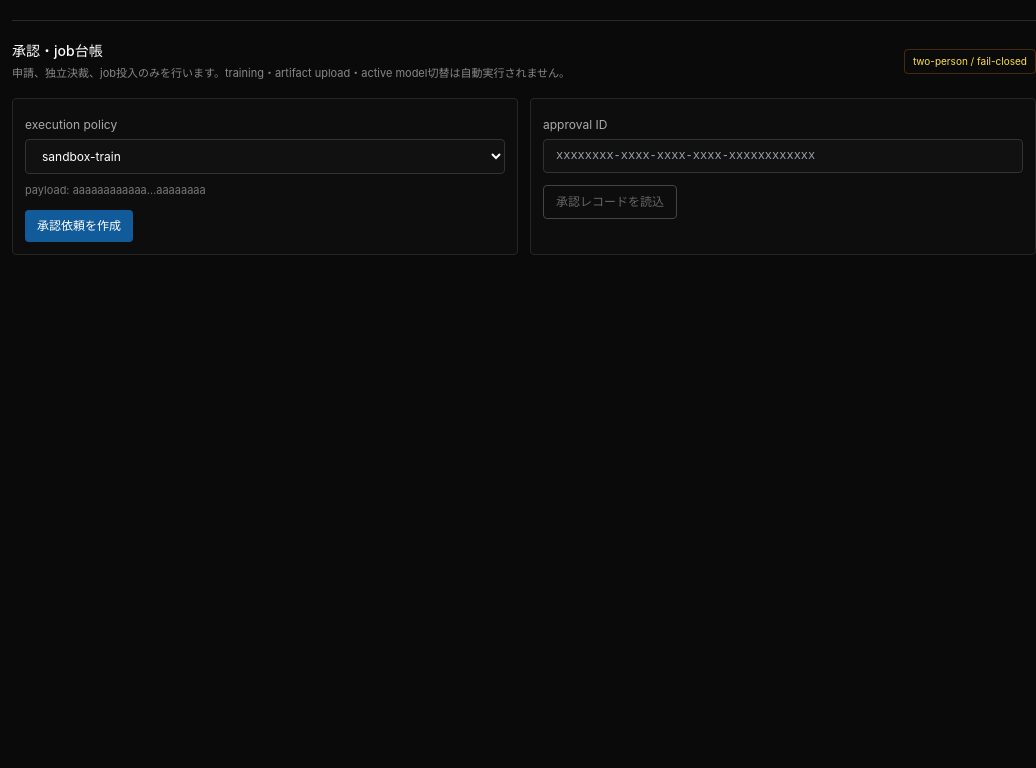
Test case: model retrain approval panel › loads an approved record and queues without claiming execution
The width and height of the screenshot is (1036, 768).
In the field labelled "approval ID": (783, 156) [543,138,1023,172], type "44444444-4444-4444-8444-444444444444"
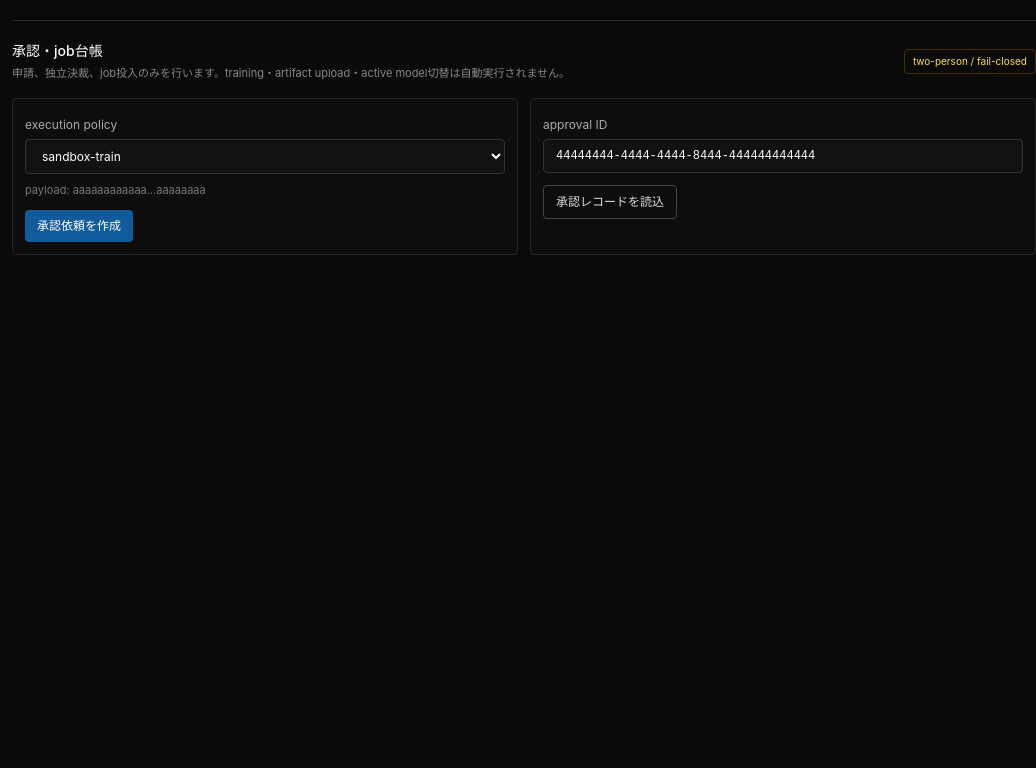
Click the button "承認レコードを読込": click(610, 202) [543,184,677,218]
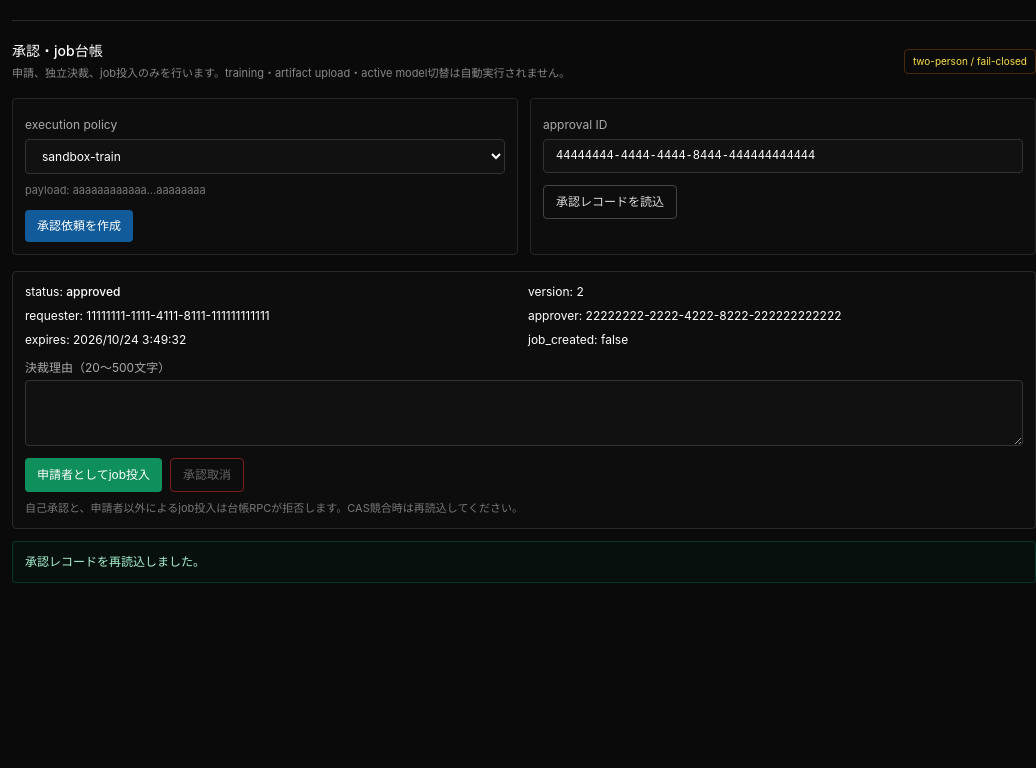
Check: the button "申請者としてjob投入" is shown
Click the button "申請者としてjob投入": click(94, 475) [25,458,162,492]
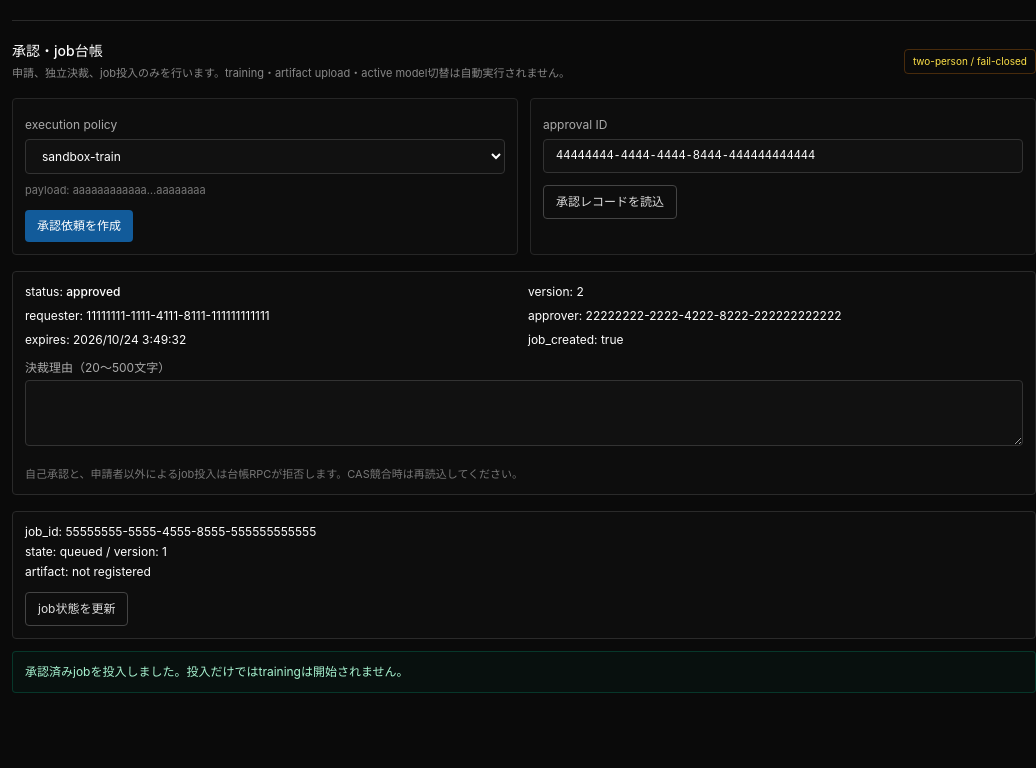
Check: the text "state: queued / version: 1" is shown, box [25,544,167,559]
